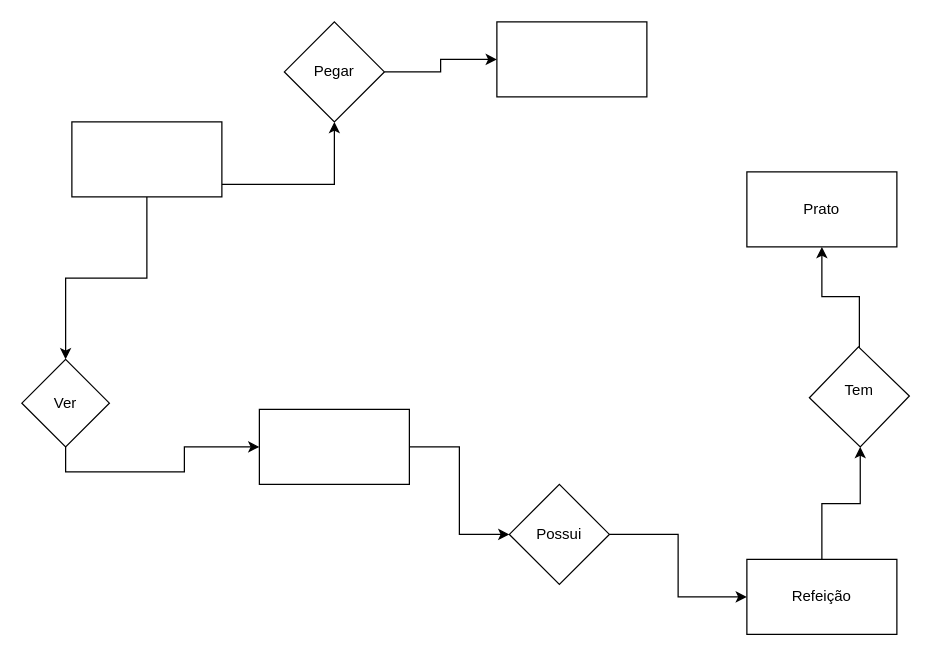
This 933x656 diagram has some shape labels left out. The centre of each missing label's shape, as x and y in pixels:
"Aluno" belongs at (x=146, y=159).
"Cardapio" belongs at (x=333, y=446).
"Ficha" belongs at (x=571, y=59).
